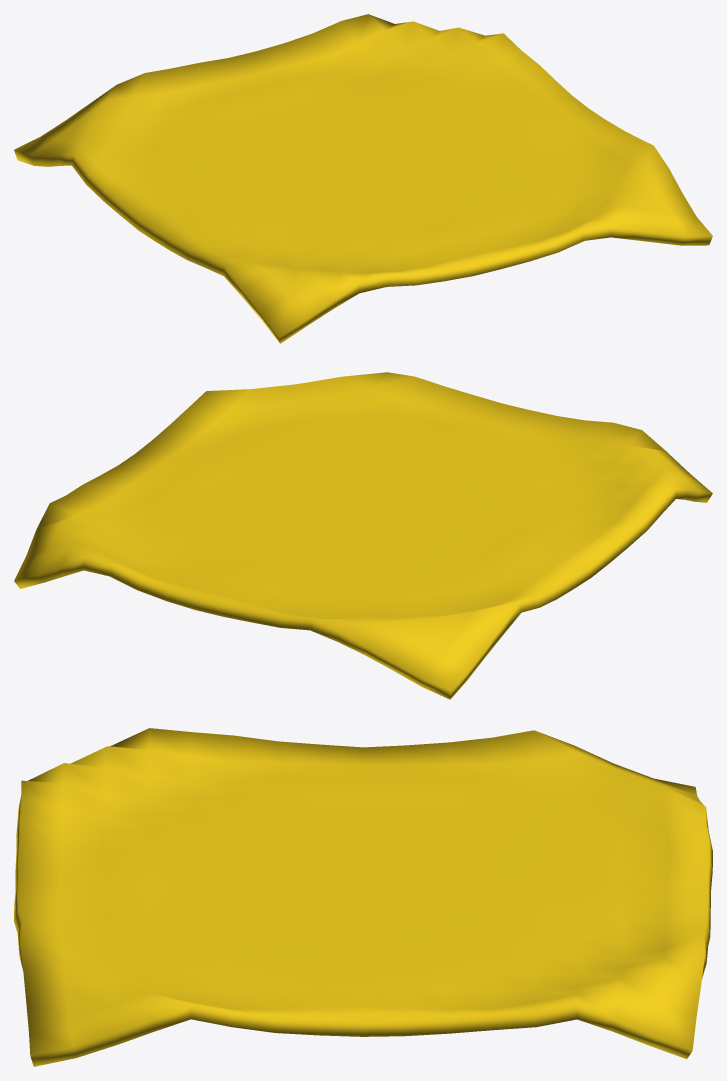
File: fromage.fbx
The picture shows the model from 3 angles, top to bottom: view 1: azimuth 30°, elevation 25°; view 2: azimuth 150°, elevation 25°; view 3: azimuth 270°, elevation 25°; orthographic projection. The views are drawn at different scales.
Parts seen in each view (by area): view 1: Plane; view 2: Plane; view 3: Plane.
Part boxes in pixels (x1,y1,x2,y2): Plane: (14,14,712,343); Plane: (14,372,712,699); Plane: (14,728,712,1066).
Size of the model in its own units: 193 by 22.57 by 202.
